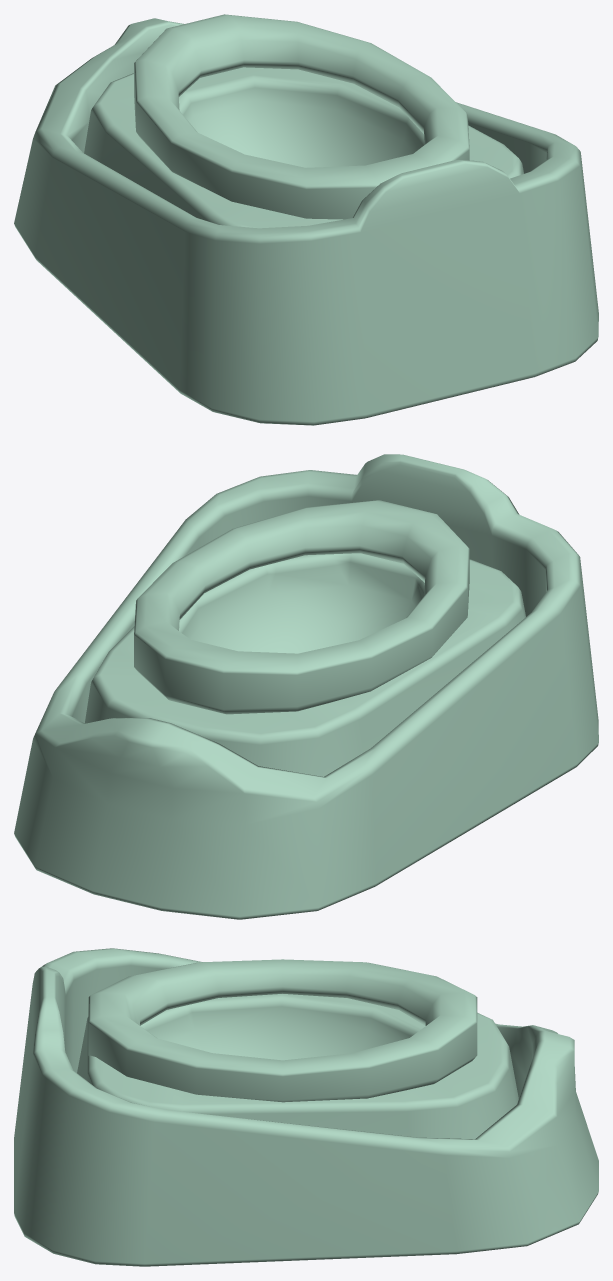
Rendered from baby potty.fbx.
The picture shows the model from 3 angles, top to bottom: view 1: azimuth 30°, elevation 25°; view 2: azimuth 150°, elevation 25°; view 3: azimuth 270°, elevation 25°; orthographic projection. The views are drawn at different scales.
Visible parts, largest first — view 1: pCylinder2; view 2: pCylinder2; view 3: pCylinder2.
Part boxes in pixels (<box>): pCylinder2: <box>14,14,598,425</box>; pCylinder2: <box>14,454,598,919</box>; pCylinder2: <box>14,948,598,1266</box>.
Bounding box in the file's own units: 0.3916 × 0.2053 × 0.5517.
